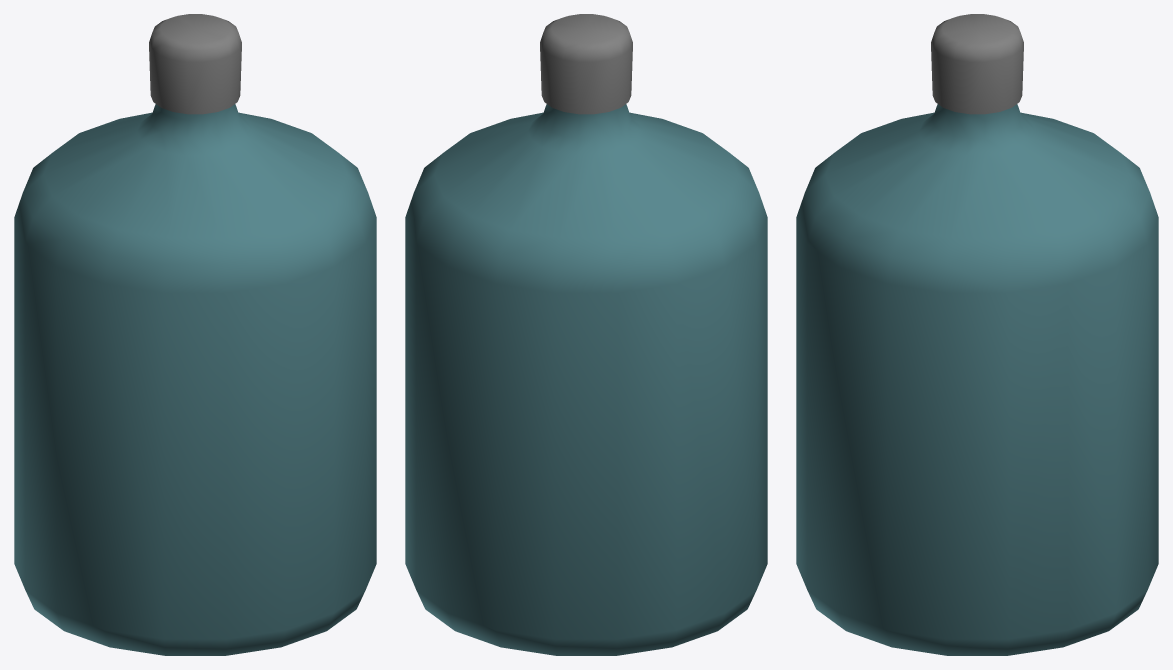
The model's file is WaterBottle.FBX.
The picture shows the model from 3 angles, left to right: view 1: azimuth 30°, elevation 25°; view 2: azimuth 150°, elevation 25°; view 3: azimuth 270°, elevation 25°; orthographic projection.
Visible parts, largest first — view 1: Mesh1 (×2); view 2: Mesh1 (×2); view 3: Mesh1 (×2).
Part boxes in pixels (<box>): Mesh1 (×2): <box>14,14,376,655</box>; Mesh1 (×2): <box>405,14,767,655</box>; Mesh1 (×2): <box>796,14,1158,655</box>.
Size of the model in its own units: 0.4512 by 0.7874 by 0.4582.
